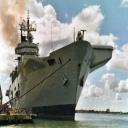Portanaves: (6, 6, 117, 122)
